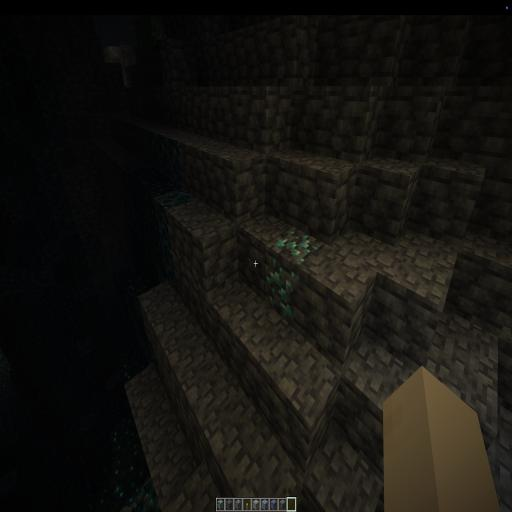diamond ore: (258, 220, 322, 330)
